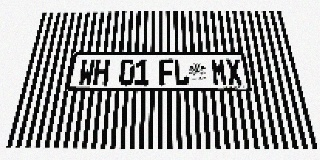0: (119, 59, 135, 86)
1: (134, 59, 149, 86)
F: (159, 59, 174, 86)
H: (93, 59, 110, 86)
L: (174, 59, 189, 86)
M: (211, 59, 228, 86)
W: (78, 59, 96, 86)
X: (225, 59, 243, 86)
